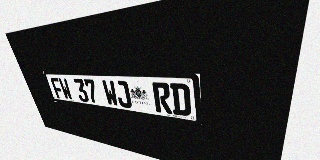3: (73, 79, 90, 103)
7: (83, 79, 100, 104)
D: (170, 83, 191, 117)
F: (50, 78, 65, 99)
J: (114, 80, 132, 109)
R: (152, 82, 172, 114)
W: (101, 80, 119, 107), (58, 78, 73, 100)
